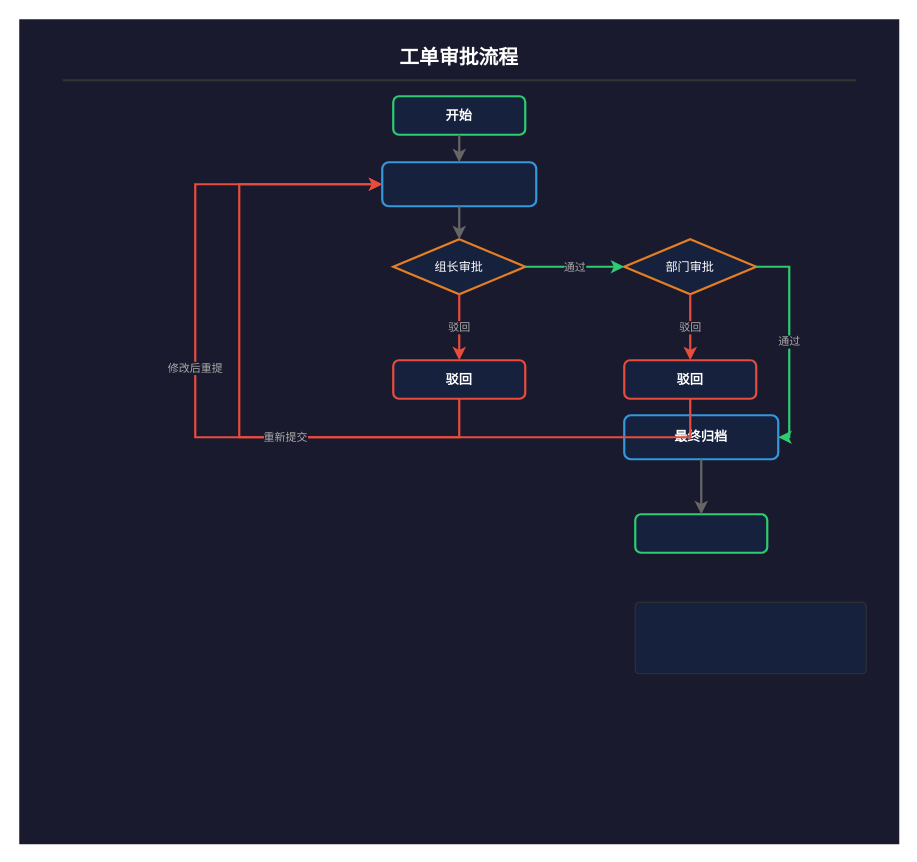
This 917x862 diagram has some shape labels left out. Here are the shapes that lost their labels. From the top down, the centre of each, then its label:
At point (459, 184): "提交工单".
At point (701, 533): "归档完成".
At point (750, 637): "图例说明 ━━━━━━━━━ ■ 主流程(蓝色) ■ 成功/通过(绿色) ■ 驳回/错误(红色) ■ 判断(橙色)".
